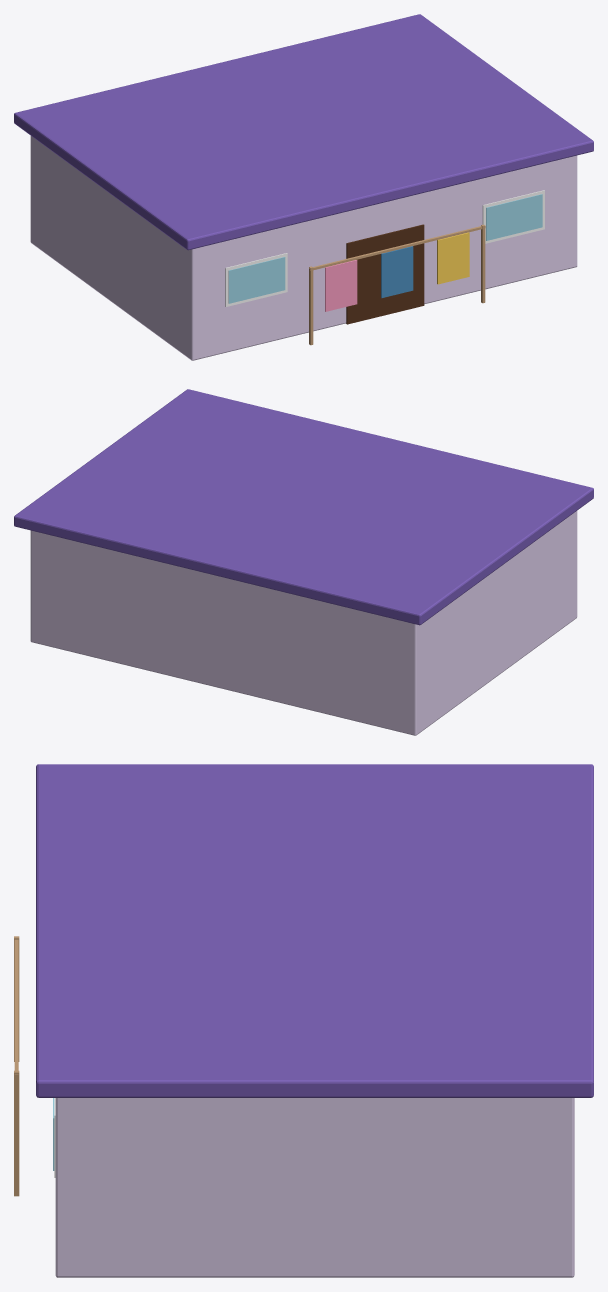
The model's file is atelier.glb.
3 views of the same model, one above another, from view 1: azimuth 30°, elevation 25°; view 2: azimuth 150°, elevation 25°; view 3: azimuth 270°, elevation 25° (orthographic). The views are drawn at different scales.
Visible parts, largest first — view 1: atelier-1, atelier-0, atelier-2, atelier-3, atelier-5, atelier-11, atelier-12, atelier-10, atelier-9, atelier-4, atelier-6; view 2: atelier-1, atelier-0; view 3: atelier-1, atelier-0, atelier-8, atelier-9.
Part boxes in pixels (bbox=[...]): atelier-1: bbox=[14, 14, 593, 250]; atelier-0: bbox=[30, 136, 577, 360]; atelier-2: bbox=[346, 224, 424, 324]; atelier-3: bbox=[228, 257, 285, 303]; atelier-5: bbox=[486, 194, 542, 240]; atelier-11: bbox=[381, 246, 413, 297]; atelier-12: bbox=[437, 232, 469, 284]; atelier-10: bbox=[325, 260, 357, 311]; atelier-9: bbox=[309, 226, 485, 270]; atelier-4: bbox=[225, 253, 287, 306]; atelier-6: bbox=[482, 190, 544, 243]; atelier-1: bbox=[14, 389, 593, 625]; atelier-0: bbox=[30, 511, 577, 735]; atelier-1: bbox=[36, 764, 593, 1097]; atelier-0: bbox=[55, 1098, 574, 1277]; atelier-8: bbox=[14, 1070, 19, 1196]; atelier-9: bbox=[14, 939, 18, 1077].
Bounding box in the file's own units: 11.6 × 3.5 × 8.94.
